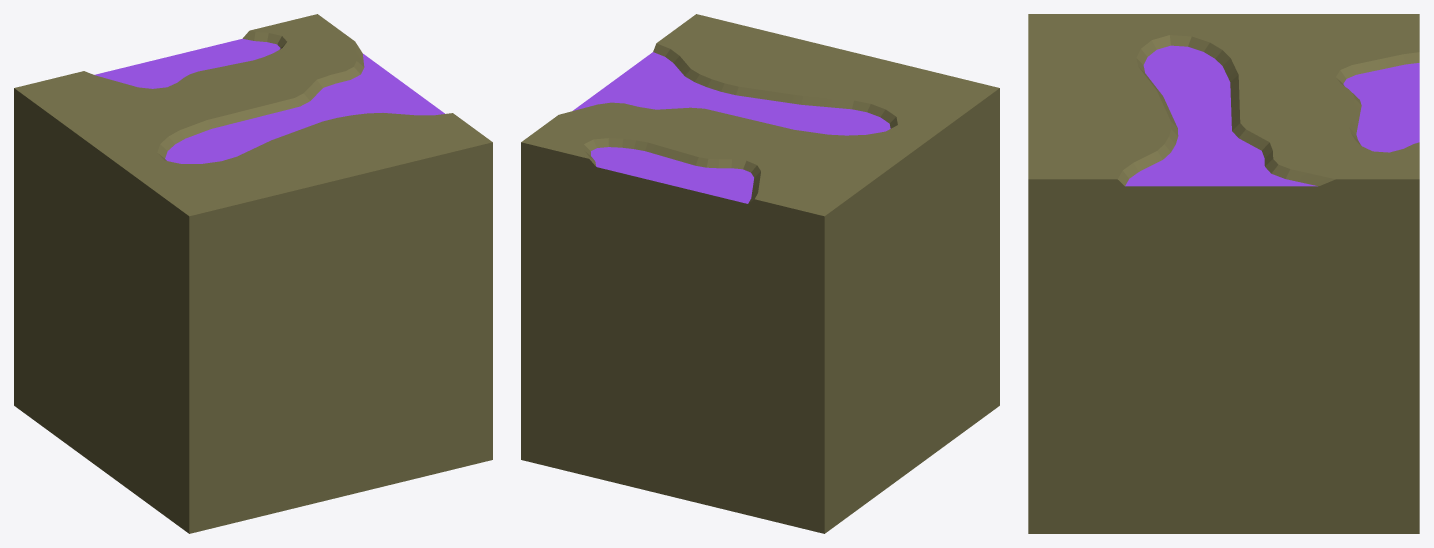
The model's file is tile_toxic_4_05.fbx.
The picture shows the model from 3 angles, left to right: view 1: azimuth 30°, elevation 25°; view 2: azimuth 150°, elevation 25°; view 3: azimuth 270°, elevation 25°; orthographic projection. The views are drawn at different scales.
Visible parts, largest first — view 1: tile_toxic_4_05; view 2: tile_toxic_4_05; view 3: tile_toxic_4_05.
Boxes of the visible parts, bbox=[...] form: tile_toxic_4_05: bbox=[14, 14, 492, 533]; tile_toxic_4_05: bbox=[521, 14, 999, 533]; tile_toxic_4_05: bbox=[1028, 14, 1419, 533].
Size of the model in its own units: 100 by 100 by 100.
